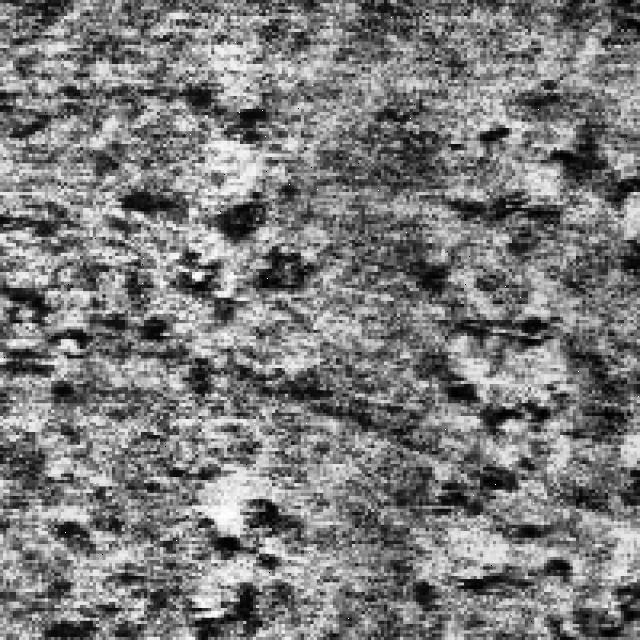Crazing: (426, 115, 640, 636), (112, 96, 320, 346), (144, 340, 323, 630)
